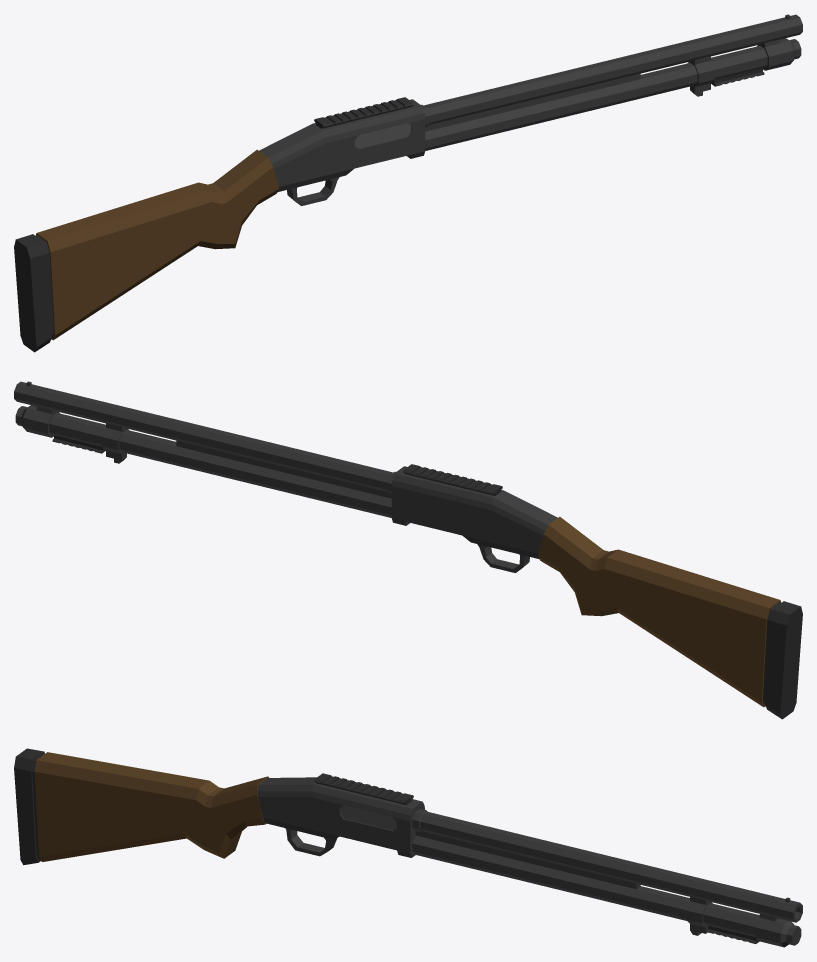
Rendered from SM_Shotguns3_02.glb.
3 views of the same model, one above another, from view 1: azimuth 30°, elevation 25°; view 2: azimuth 150°, elevation 25°; view 3: azimuth 330°, elevation 25° (orthographic).
Visible parts, largest first — view 1: SM_Shotguns3_02; view 2: SM_Shotguns3_02; view 3: SM_Shotguns3_02.
Boxes of the visible parts, bbox=[...] form: SM_Shotguns3_02: bbox=[14, 14, 802, 352]; SM_Shotguns3_02: bbox=[14, 381, 802, 719]; SM_Shotguns3_02: bbox=[14, 748, 802, 947].
Bounding box in the file's own units: 1.18 × 0.226 × 0.0424.
Materials: 1 (1 with a texture image).
